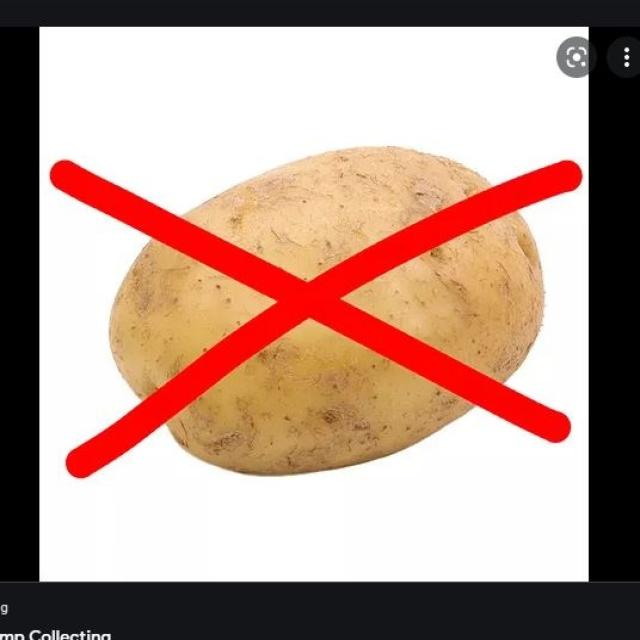potato: (108, 147, 544, 476)
